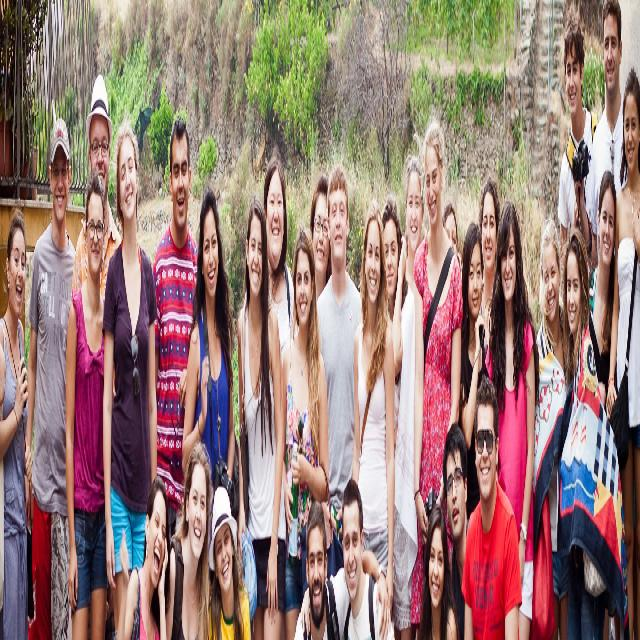body: (22, 108, 85, 639), (554, 224, 632, 639), (100, 116, 160, 639), (405, 114, 464, 638), (482, 196, 536, 639), (235, 193, 288, 640), (152, 111, 200, 549), (604, 59, 640, 638), (64, 169, 108, 639), (281, 224, 330, 640), (315, 159, 363, 548), (352, 199, 395, 624), (69, 69, 122, 412), (534, 216, 574, 640), (381, 192, 418, 640), (570, 0, 627, 289), (182, 185, 236, 483), (462, 373, 522, 640), (300, 476, 394, 640), (0, 208, 33, 640), (293, 498, 391, 640), (243, 151, 297, 369), (157, 440, 212, 639), (559, 14, 598, 290), (456, 220, 488, 525), (116, 473, 170, 640), (202, 473, 254, 639), (589, 165, 619, 416), (415, 501, 460, 640), (441, 418, 469, 640), (442, 187, 484, 296), (478, 174, 501, 346), (402, 154, 428, 294), (310, 170, 332, 302), (0, 309, 6, 639)
